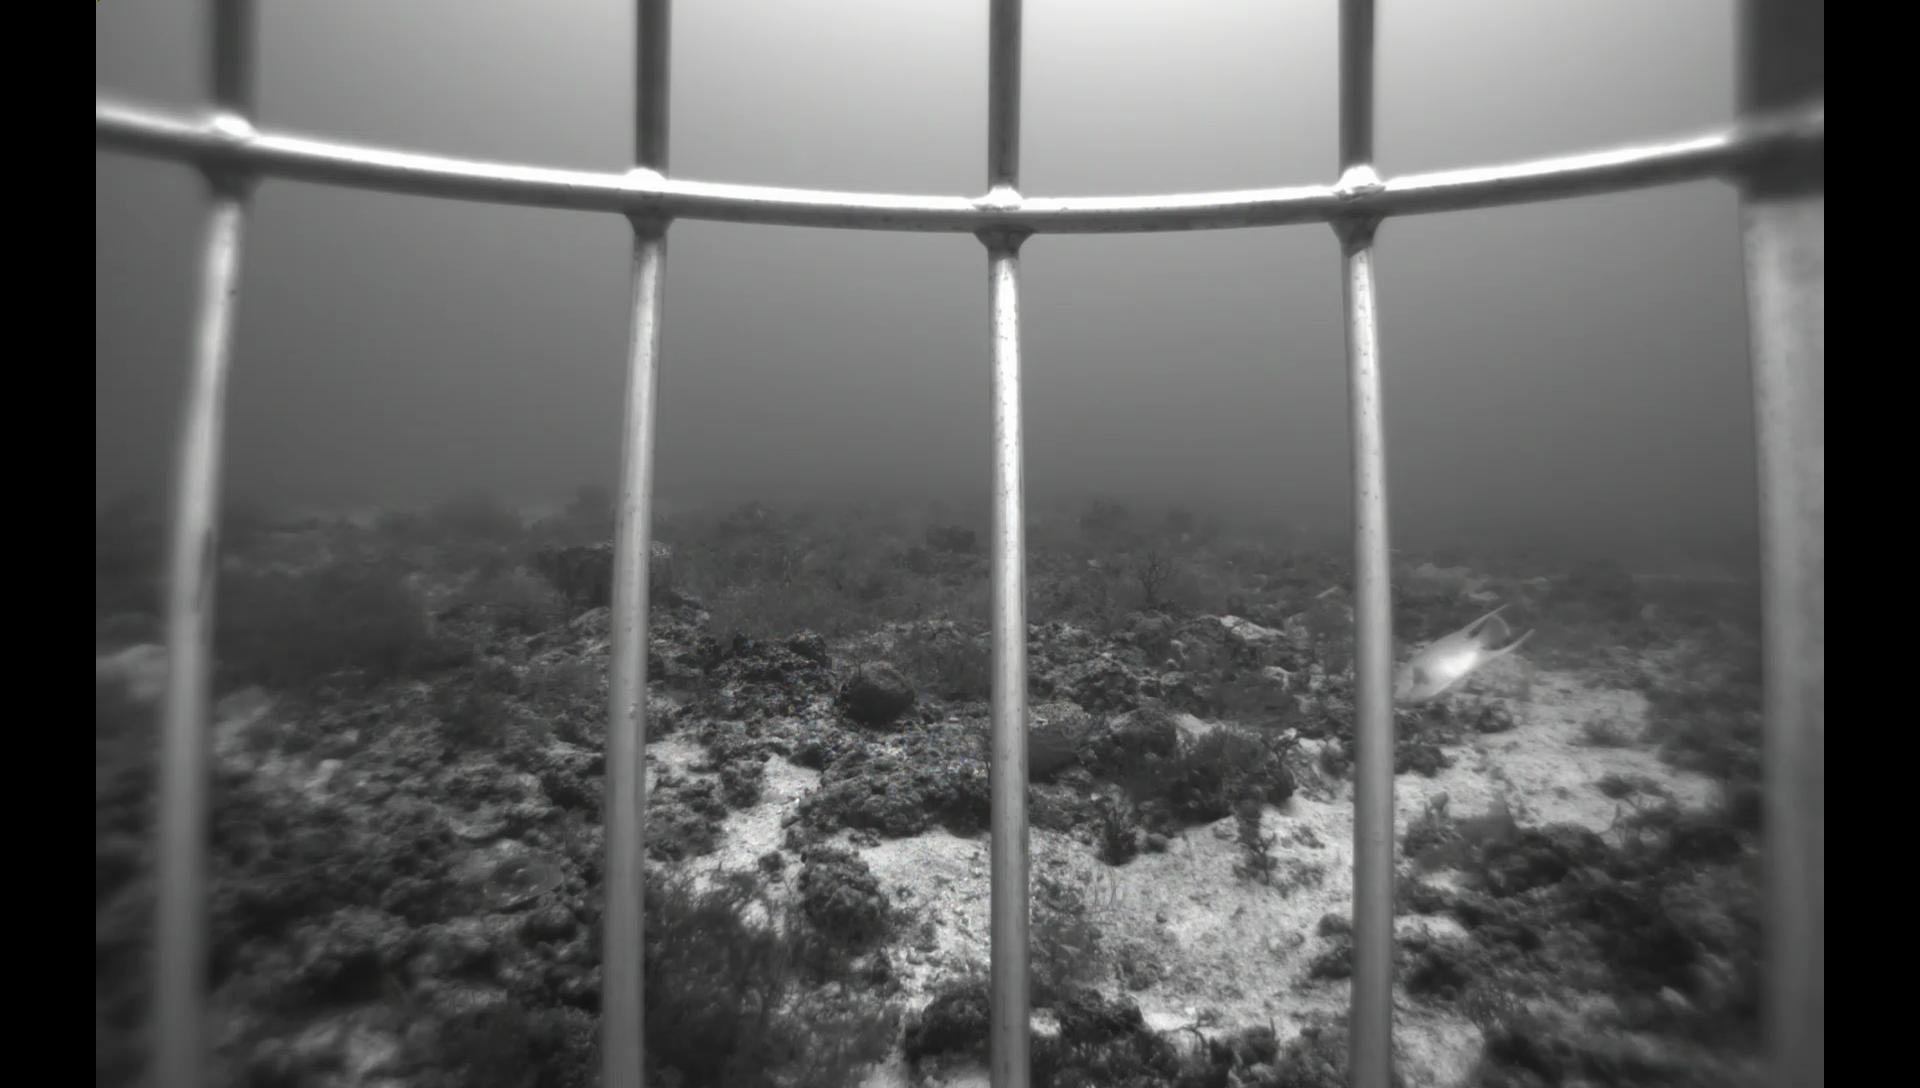HOLACANTHUSBERMUDENSIS-170290102: (1391, 596, 1536, 712)
SERRANUSANNULARIS-170024201: (367, 961, 439, 1044)
